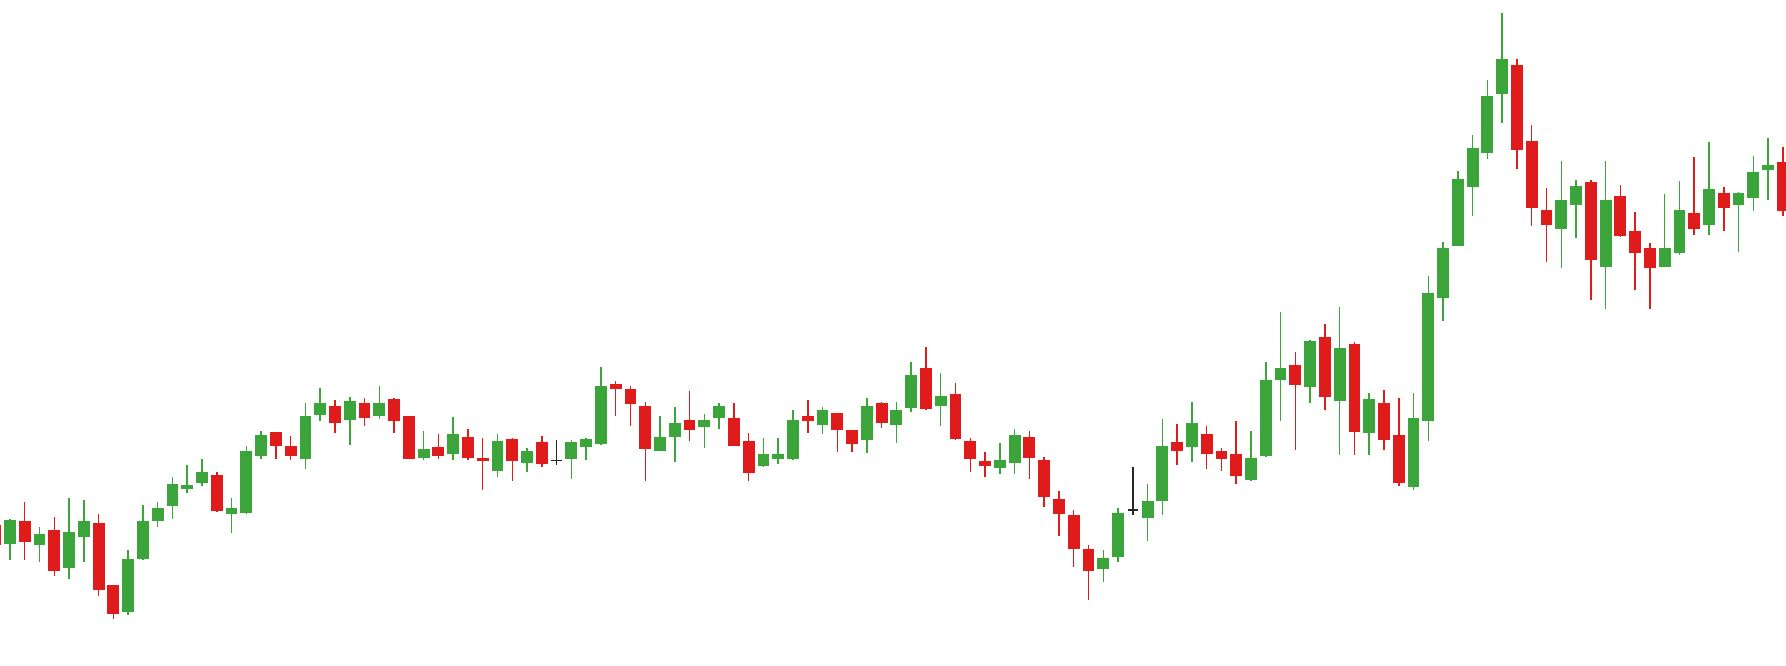sell: (592, 347, 936, 439)
